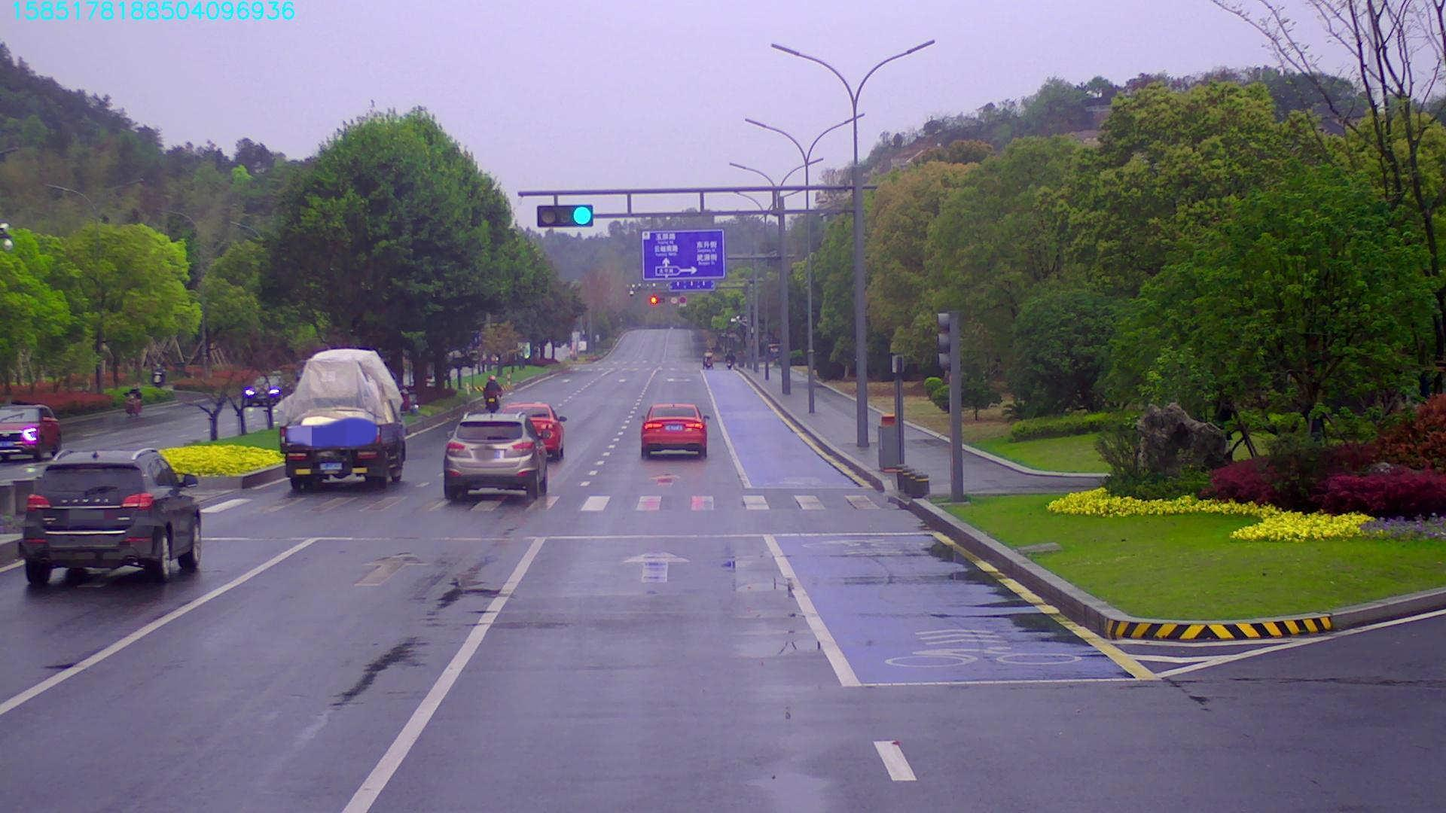green: (534, 202, 602, 233)
